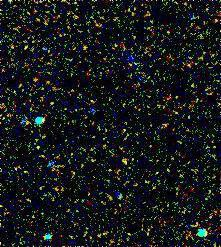star: (108, 150, 138, 180)
